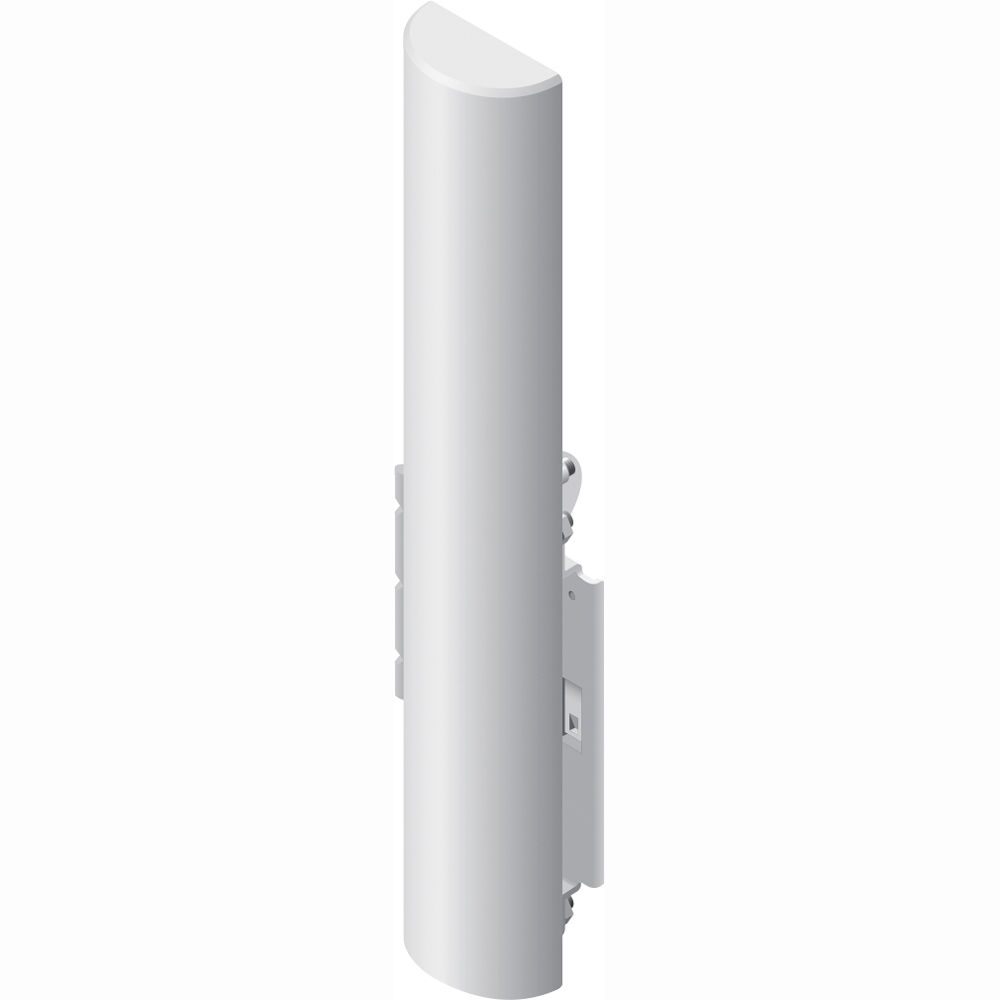sa: (357, 14, 600, 1000)
